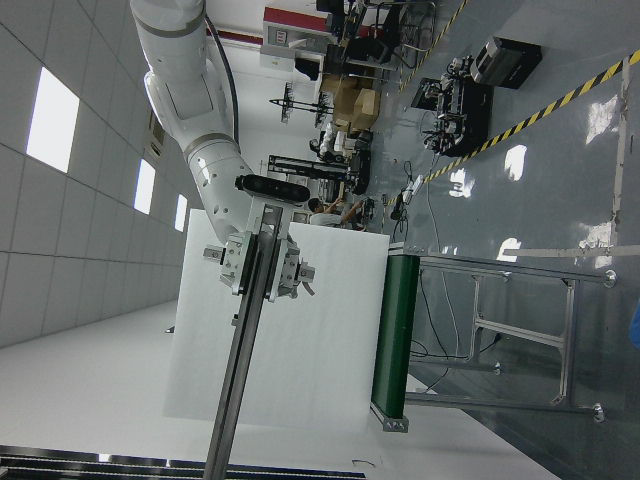up: (204, 199, 285, 476)
